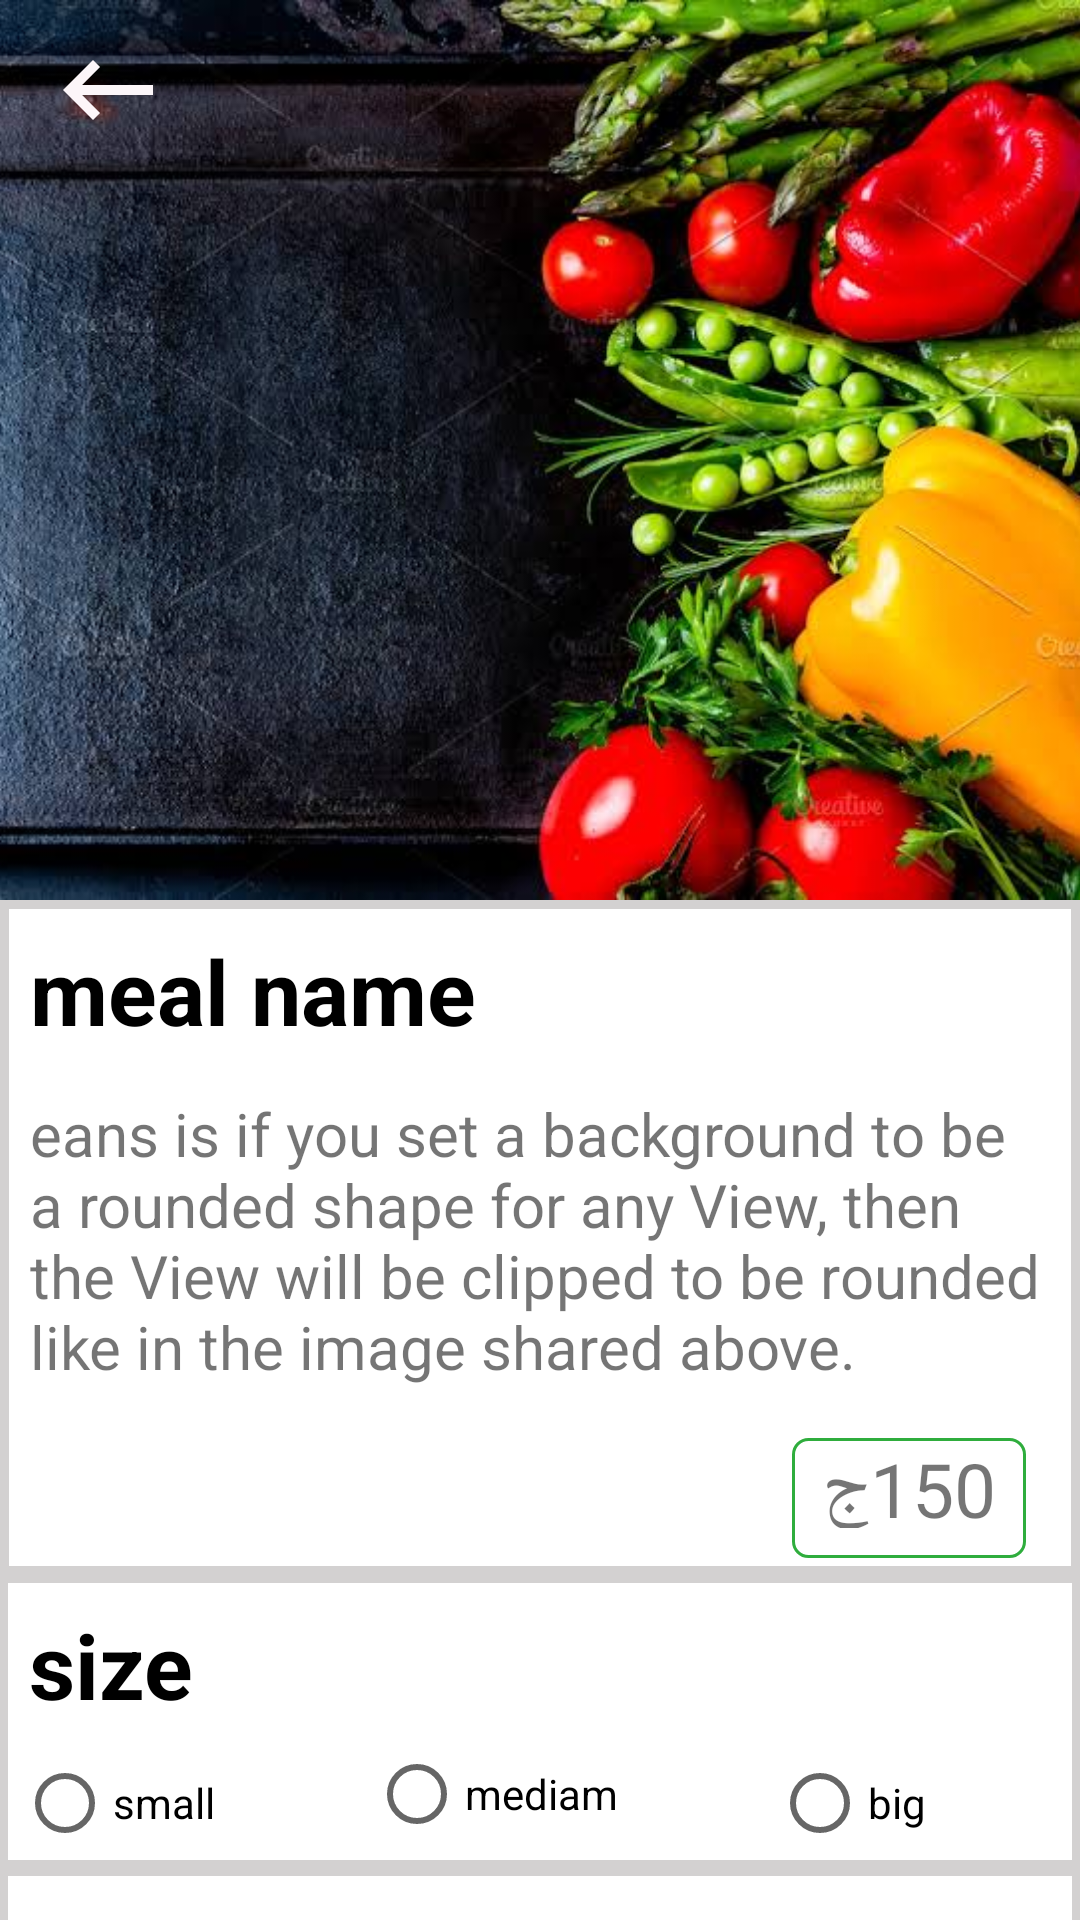

Point at icon controls on the screen. Image size 1080*1920, points as point (x, y).
keyboard backspace: point (108, 90)
